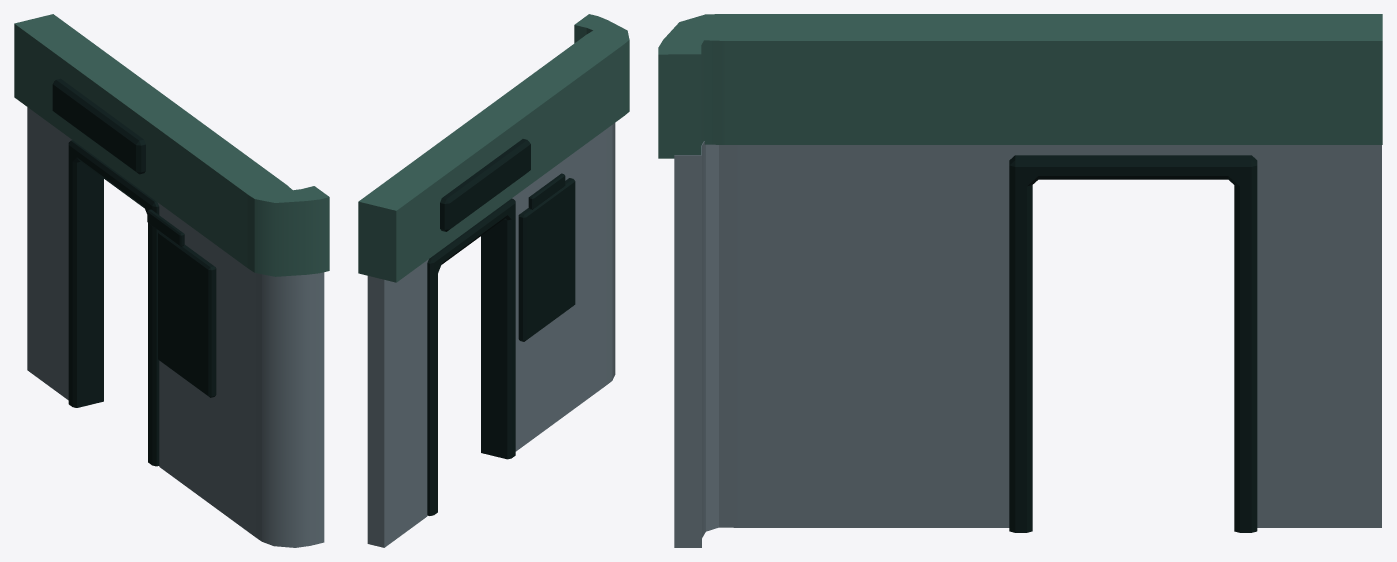
The model's file is Wall combined with door gap.fbx.
The picture shows the model from 3 angles, left to right: view 1: azimuth 30°, elevation 25°; view 2: azimuth 150°, elevation 25°; view 3: azimuth 270°, elevation 25°; orthographic projection. The views are drawn at different scales.
Visible parts, largest first — view 1: pCube456; view 2: pCube456; view 3: pCube456.
Part boxes in pixels (bbox=[...]): pCube456: bbox=[14, 14, 329, 547]; pCube456: bbox=[358, 14, 629, 547]; pCube456: bbox=[658, 14, 1382, 547].
Size of the model in its own units: 122 by 608 by 809.
